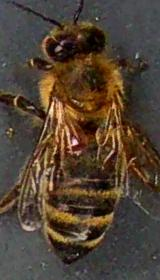varroa_mite: (56, 135, 90, 164)
